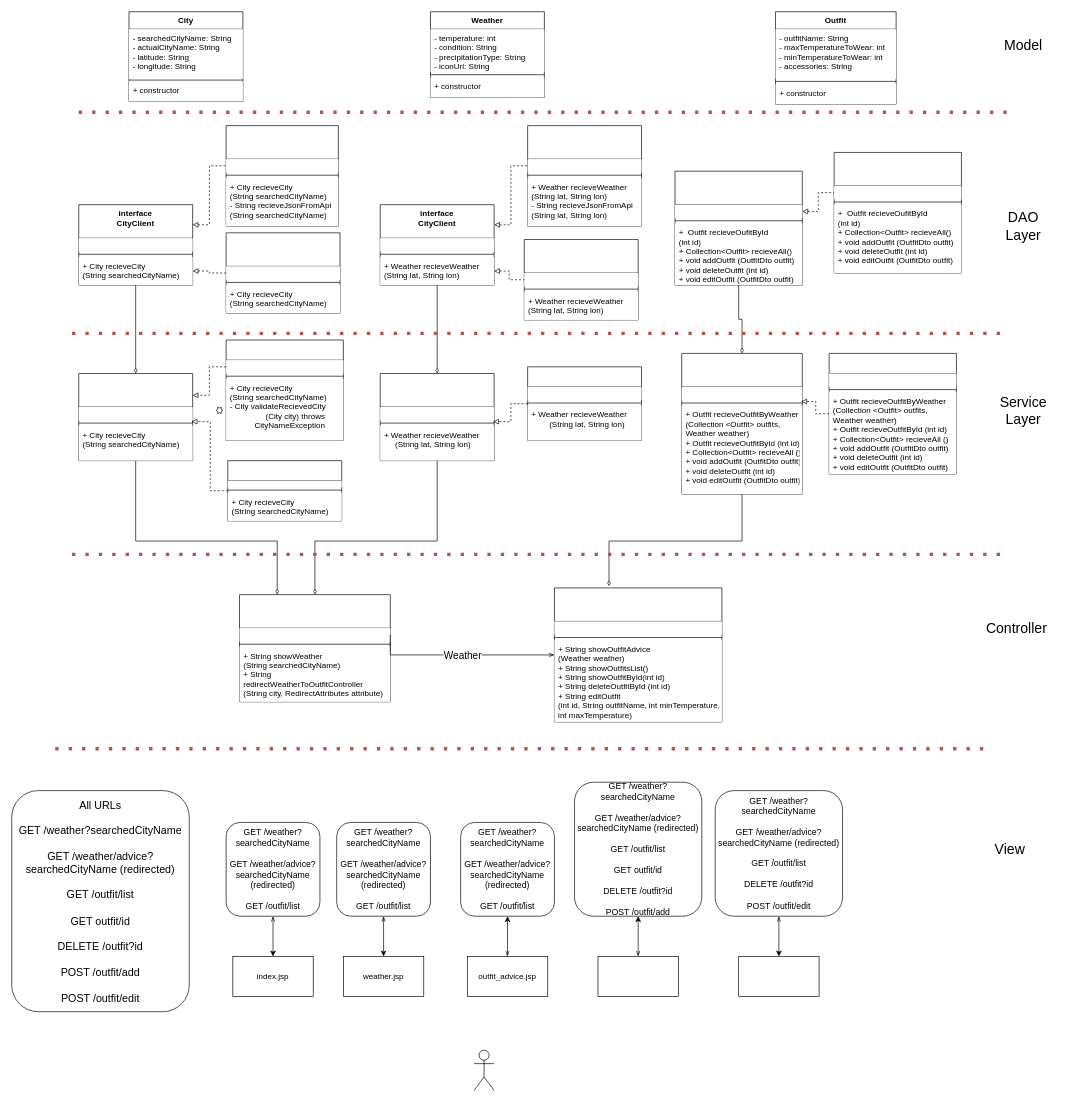
Some shapes in this 1069 by 1116 pixel diagram are drawn without their labels. The shapes that lost their labels are listed below. From the top down, each one's box as (x1, y1, x2, y2) in pixels, then its label:
(225, 125, 338, 226): CityClientYandexApi
(527, 125, 642, 226): WeatherClientYandexApi
(674, 171, 802, 285): interface OutfitRepository
(833, 152, 961, 273): OutfitRepositoryImpl
(225, 232, 340, 313): CityClientTxtFile
(524, 239, 638, 320): WeatherClientTxtFile
(225, 339, 343, 441): CityServiceValidationImpl
(527, 366, 642, 441): WeatherServicePlainImpl
(78, 373, 193, 461): interface CityService
(380, 373, 494, 461): interface WeatherService
(681, 353, 802, 494): interface OutfitService
(828, 353, 956, 474): OutfitServiceImpl
(227, 460, 342, 521): CityServicePlainImpl
(239, 594, 390, 702): WeatherController
(554, 587, 722, 722): OutfitController
(597, 956, 678, 997): outfit_list.jsp
(738, 956, 819, 997): outfit_id.jsp
(473, 1050, 494, 1090): Actor
